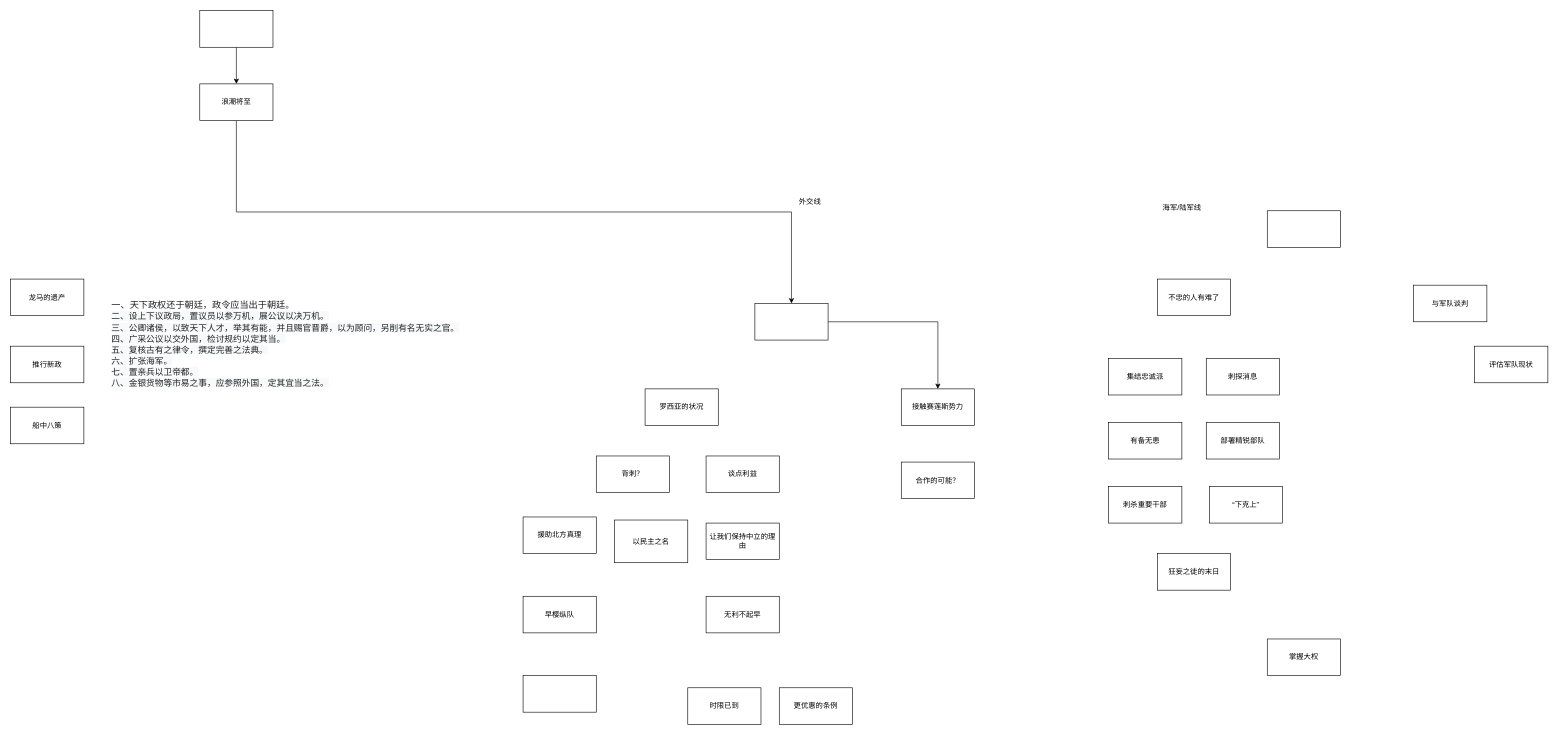
Some shapes in this 1559 by 735 pixel diagram are drawn without their labels. The shapes that lost their labels are listed below. From the top down, each one's centre as x and y in pixels, then its label:
At (x=236, y=28): "我们的胜利！".
At (x=791, y=321): "现实政治".
